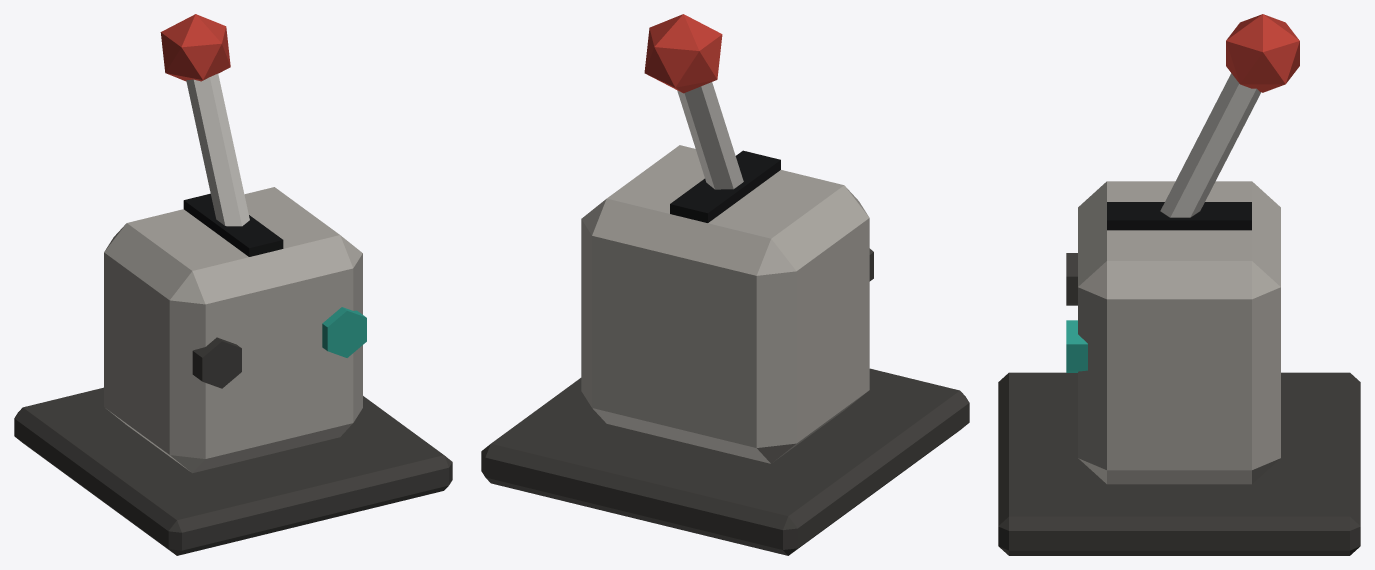
Rendered from switch.fbx.
3 renders of one model, left to right at view 1: azimuth 30°, elevation 25°; view 2: azimuth 150°, elevation 25°; view 3: azimuth 270°, elevation 25°, orthographic. The views are drawn at different scales.
Parts seen in each view (by area): view 1: switch; view 2: switch; view 3: switch.
Boxes of the visible parts, <box> form: switch: <box>14,14,452,555</box>; switch: <box>481,14,969,555</box>; switch: <box>998,14,1360,555</box>.
Bounding box in the file's own units: 1.5 × 2.15 × 1.5.
